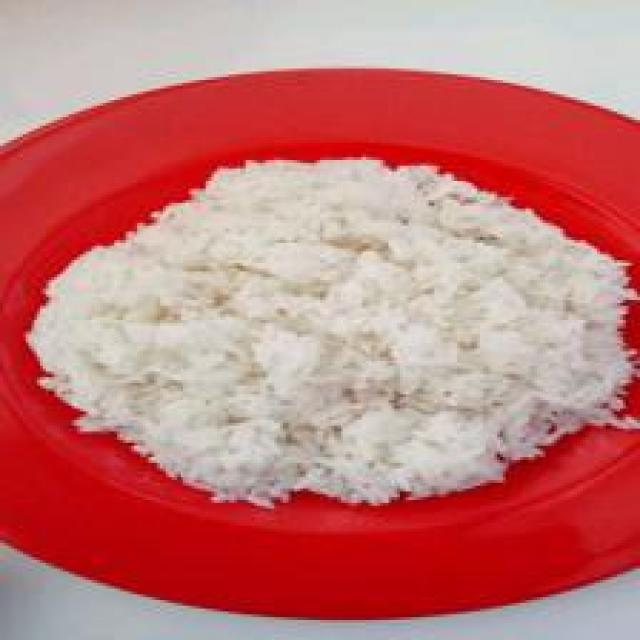Wet Waste: (22, 150, 634, 512)
